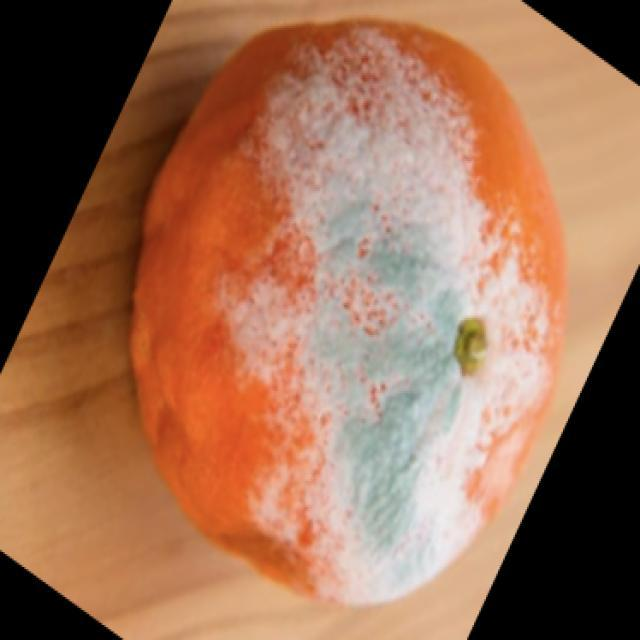rotten orange: (127, 14, 569, 607)
